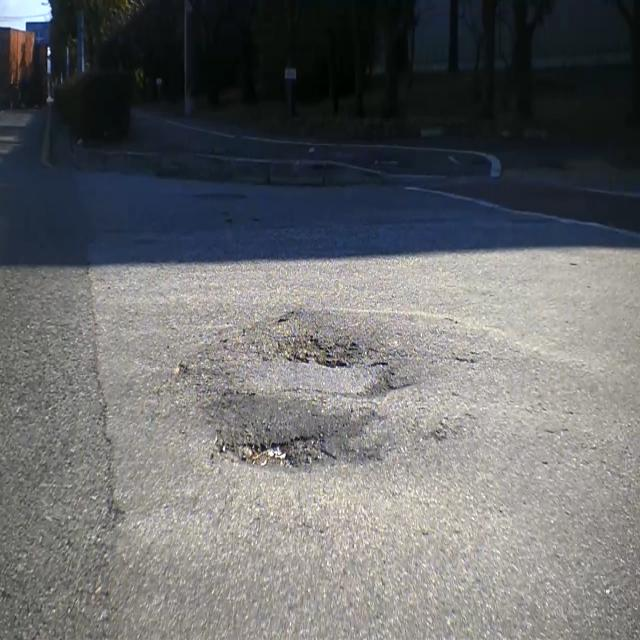Pothole: (205, 391, 373, 469), (275, 324, 391, 374)
